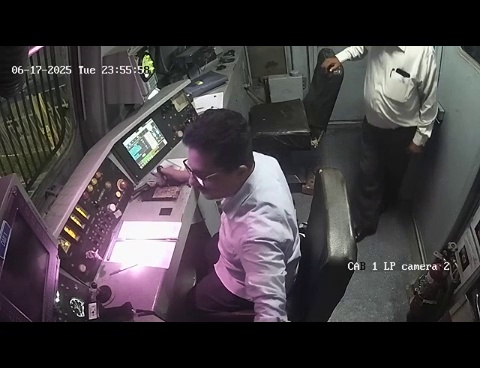horn_inactive: (77, 272, 128, 312)
